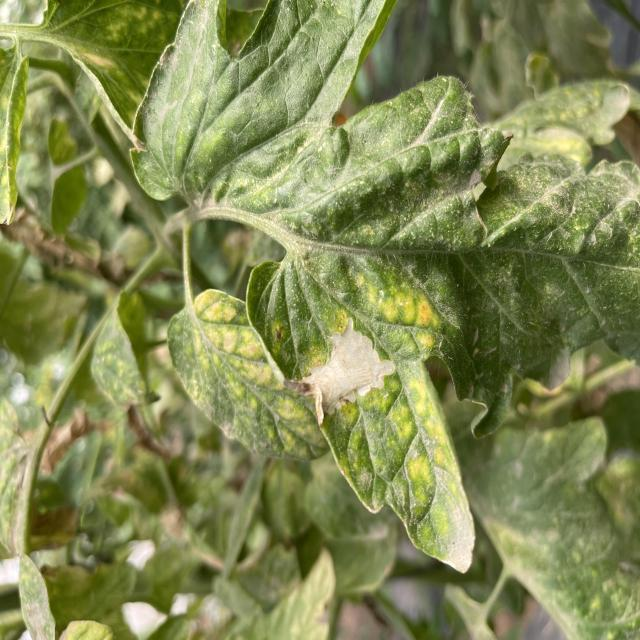Tuta absoluta: (281, 317, 401, 437)
